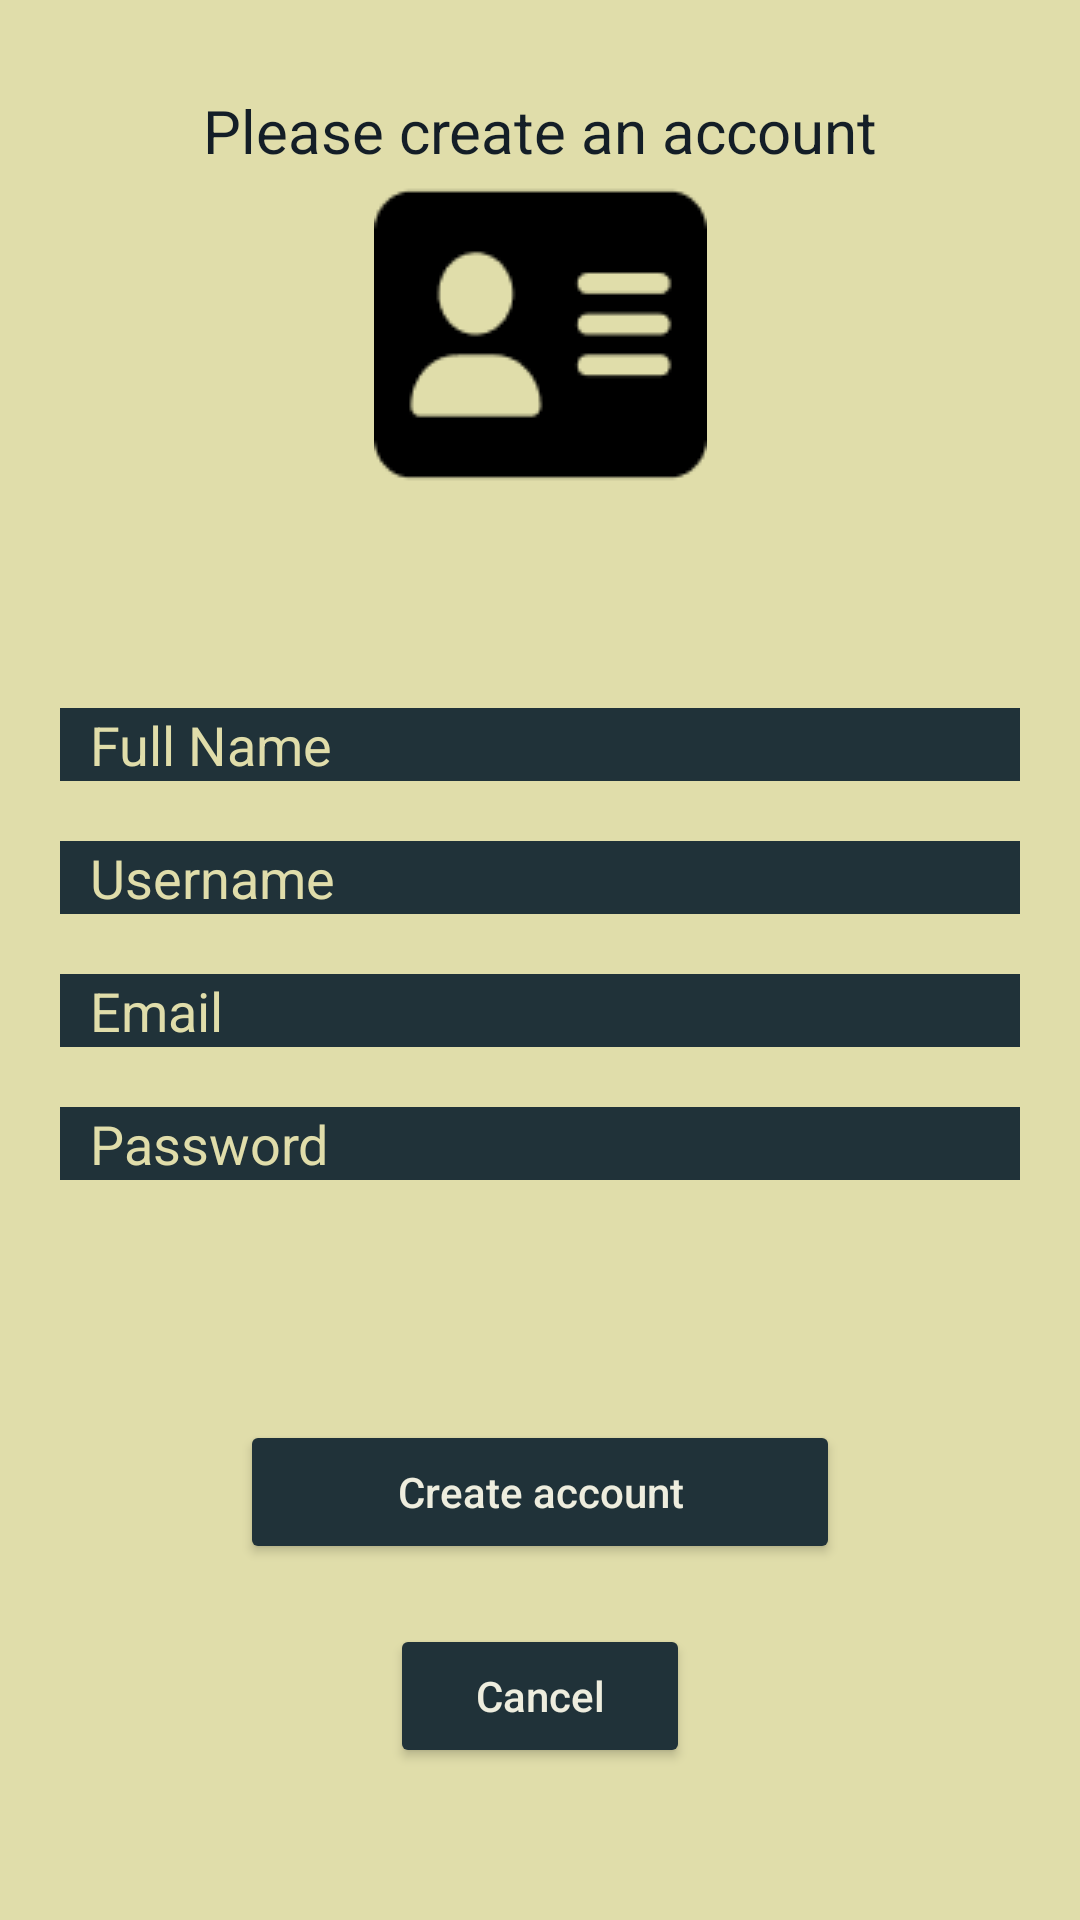

Point at icon controls on the screen. Image size 1080px x 1920px, points as [x,y].
profile card: [540,334]
